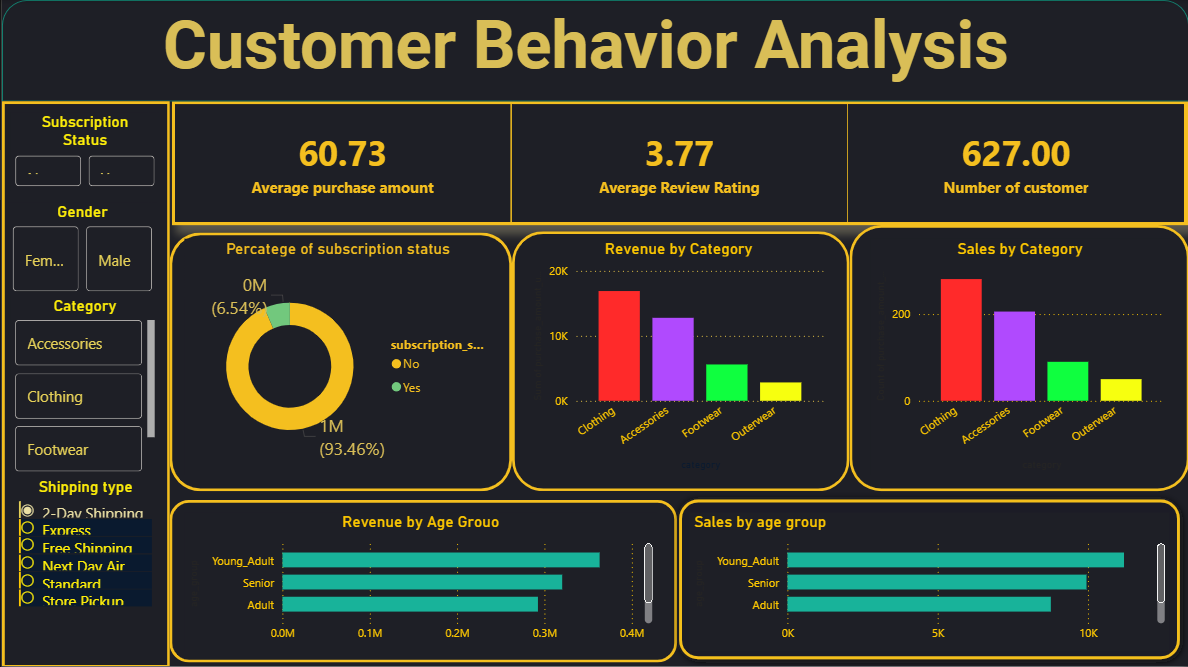

The page's visual inventory and layout, read from the dashboard file:
{"tool":"powerbi","page":{"name":"Page 1","canvas":[1280,720],"ordinal":0},"visuals":[{"type":"cardVisual","fields":{"Data":["public customer.Average purchase amount","public customer.Average Review Rating","public customer.Number of  customer"]},"box":[183.3,109.2,1097,133.4],"z":0},{"type":"shape","box":[0,0,1279.7,109.5],"z":1000},{"type":"textbox","box":[0,0,1258.7,121.3],"z":2000},{"type":"shape","box":[549.8,249.3,363.9,280.3],"z":3000},{"type":"shape","box":[180.6,250.7,369.3,279],"z":4000},{"type":"clusteredColumnChart","title":"Revenue by Category","fields":{"Category":["public customer.category"],"Y":["Sum(public customer.purchase_amount_usd)"]},"box":[567.4,257.4,324.8,254.7],"z":5000},{"type":"donutChart","title":"Percatege of subscription status","fields":{"Category":["public customer.subscription_status"],"Y":["Sum(public customer.customer_id)"]},"box":[196.8,257.4,331.5,254.7],"z":6000},{"type":"shape","box":[913.7,242.6,366.6,287.1],"z":7000},{"type":"clusteredColumnChart","title":"Sales by Category","fields":{"Category":["public customer.category"],"Y":["CountNonNull(public customer.purchase_amount_usd)"]},"box":[936.6,257.4,322.1,254.7],"z":8000},{"type":"shape","box":[0,109.5,181.1,610.8],"z":9000},{"type":"advancedSlicerVisual","title":"Subscription Status","fields":{"Values":["public customer.subscription_status"]},"box":[9.4,121.3,160.4,84.9],"z":10000},{"type":"listSlicer","title":"Shipping type","fields":{"Values":["public customer.shipping_type"]},"box":[13.5,514.8,153.6,186],"z":11000},{"type":"shape","box":[180.6,539.1,547.1,175.2],"z":12000},{"type":"shape","box":[721,529.6,557.9,190],"z":13000},{"type":"clusteredBarChart","title":"Revenue by Age Grouo","fields":{"Y":["Sum(public customer.customer_id)"],"Category":["public customer.age_group"]},"box":[197.3,552.7,509.5,148.6],"z":14000},{"type":"clusteredBarChart","title":"Sales by age group","fields":{"Category":["public customer.age_group"],"Y":["Sum(public customer.purchase_amount_usd)"]},"box":[740.5,552.7,517.6,148.6],"z":15000},{"type":"advancedSlicerVisual","title":"Gender","fields":{"Values":["public customer.gender"]},"box":[6.7,218.3,160.4,101.1],"z":16000},{"type":"advancedSlicerVisual","title":"Category","fields":{"Values":["public customer.category"]},"box":[9.4,319.4,160.4,195.4],"z":17000}]}

Visuals, with their boxes in screenshot pixels (x1, y1, x2, y2), scaled from the page's 1280x720 canvas onto the 1188x667 screenshot:
cardVisual - public customer.Average purchase amount x public customer.Average Review Rating: (left=170, top=101, right=1187, bottom=225)
shape: (left=0, top=0, right=1187, bottom=101)
textbox: (left=0, top=0, right=1168, bottom=112)
shape: (left=510, top=231, right=848, bottom=491)
shape: (left=168, top=232, right=510, bottom=491)
"Revenue by Category" clusteredColumnChart: (left=527, top=238, right=828, bottom=474)
"Percatege of subscription status" donutChart: (left=183, top=238, right=490, bottom=474)
shape: (left=848, top=225, right=1187, bottom=491)
"Sales by Category" clusteredColumnChart: (left=869, top=238, right=1168, bottom=474)
shape: (left=0, top=101, right=168, bottom=666)
"Subscription Status" advancedSlicerVisual: (left=9, top=112, right=158, bottom=191)
"Shipping type" listSlicer: (left=13, top=477, right=155, bottom=649)
shape: (left=168, top=499, right=675, bottom=662)
shape: (left=669, top=491, right=1187, bottom=666)
"Revenue by Age Grouo" clusteredBarChart: (left=183, top=512, right=656, bottom=650)
"Sales by age group" clusteredBarChart: (left=687, top=512, right=1168, bottom=650)
"Gender" advancedSlicerVisual: (left=6, top=202, right=155, bottom=296)
"Category" advancedSlicerVisual: (left=9, top=296, right=158, bottom=477)
